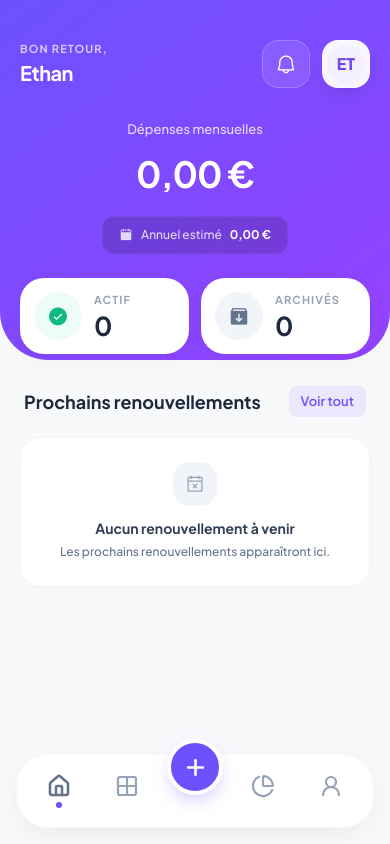
Scenario: App › refreshes dashboard values after creating a subscription
This screenshot has width=390, height=844.
Expected: the 1st text "0,00 €" is shown, [136, 156, 254, 192]
Click the button named "Ajouter un abonnement" at (195, 767), box [161, 739, 229, 795]
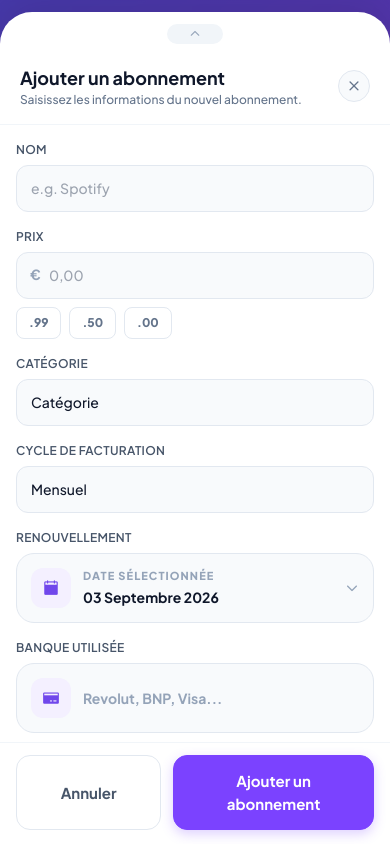
Now the dropdown named "Nom" is shown
Type "Canva" into the dropdown named "Nom" at (195, 188), box [16, 165, 374, 212]
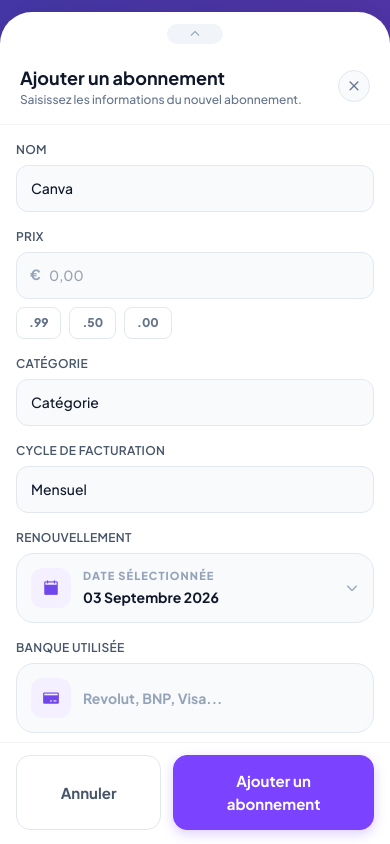
Type "9,99" into the field named "Prix" at (195, 276), box [16, 252, 374, 299]
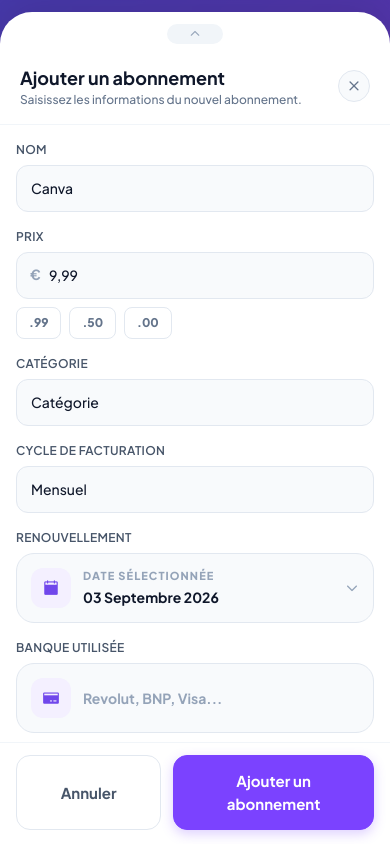
Type "2099-06-03" into the date field named "Renouvellement" at (195, 588), box [16, 553, 374, 623]
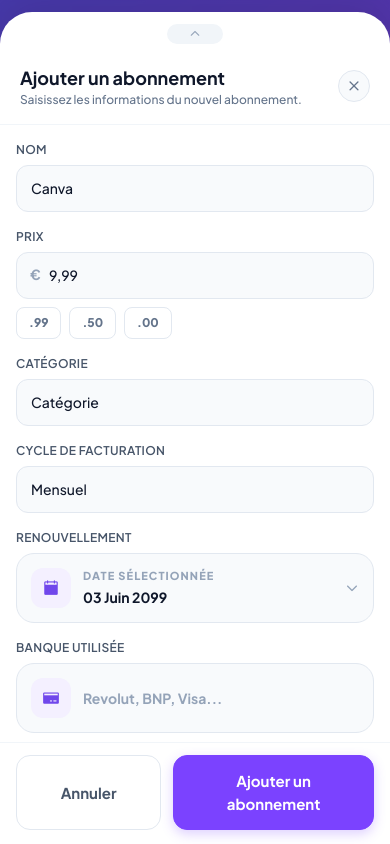
Click the button "Ajouter un abonnement" at (274, 793), box [173, 755, 374, 830]
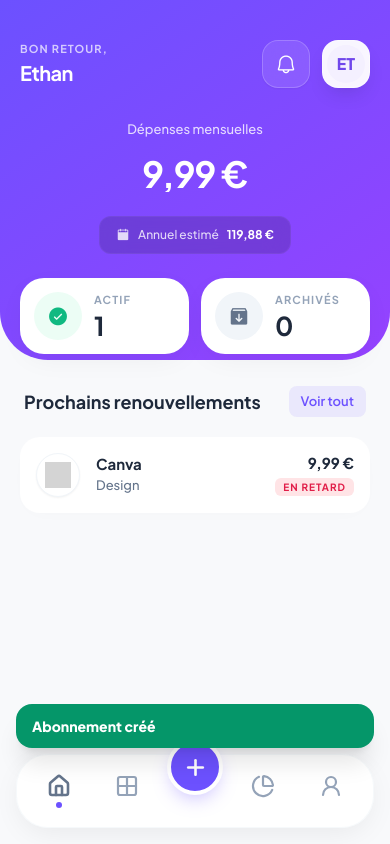
Now the text "9,99 €" below "Dépenses mensuelles" is shown, box [142, 150, 248, 196]
Now the heading "Canva" is shown, box [96, 454, 142, 473]
